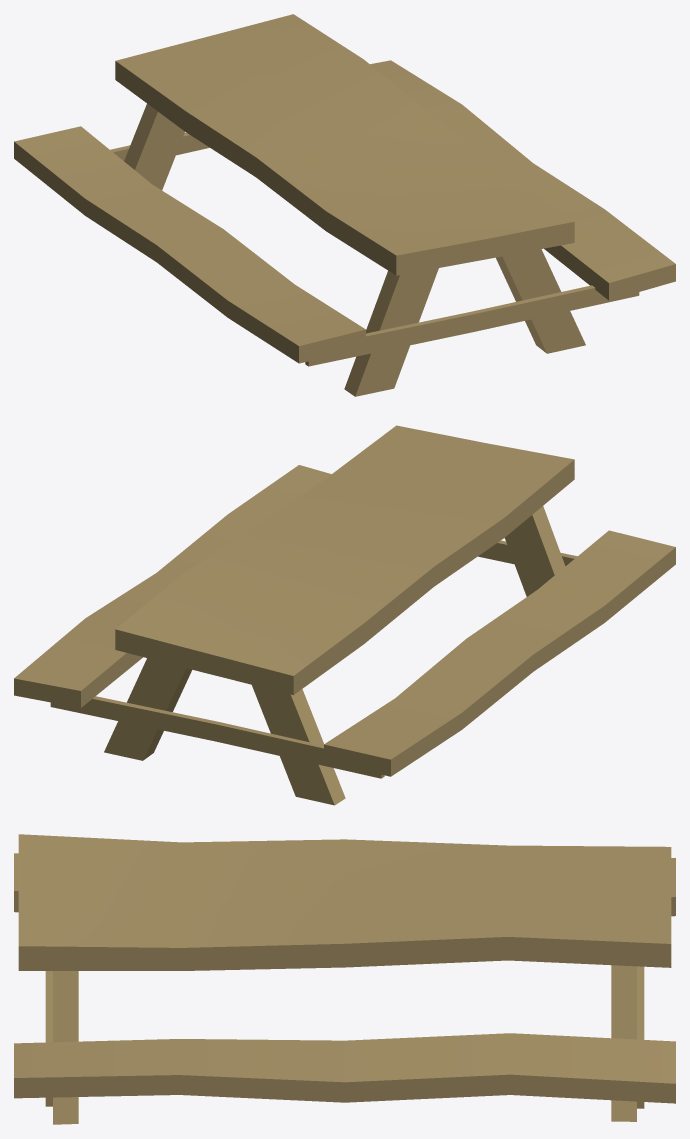
The model's file is Beer_Bench.fbx.
3 views of the same model, one above another, from view 1: azimuth 30°, elevation 25°; view 2: azimuth 150°, elevation 25°; view 3: azimuth 270°, elevation 25° (orthographic). The views are drawn at different scales.
Visible parts, largest first — view 1: BENCH; view 2: BENCH; view 3: BENCH.
Part boxes in pixels (left/top/right/bottom): BENCH: left=14, top=14, right=675, bottom=396; BENCH: left=14, top=425, right=675, bottom=805; BENCH: left=14, top=834, right=675, bottom=1124.
Bounding box in the file's own units: 2.19 × 0.8365 × 2.87.
